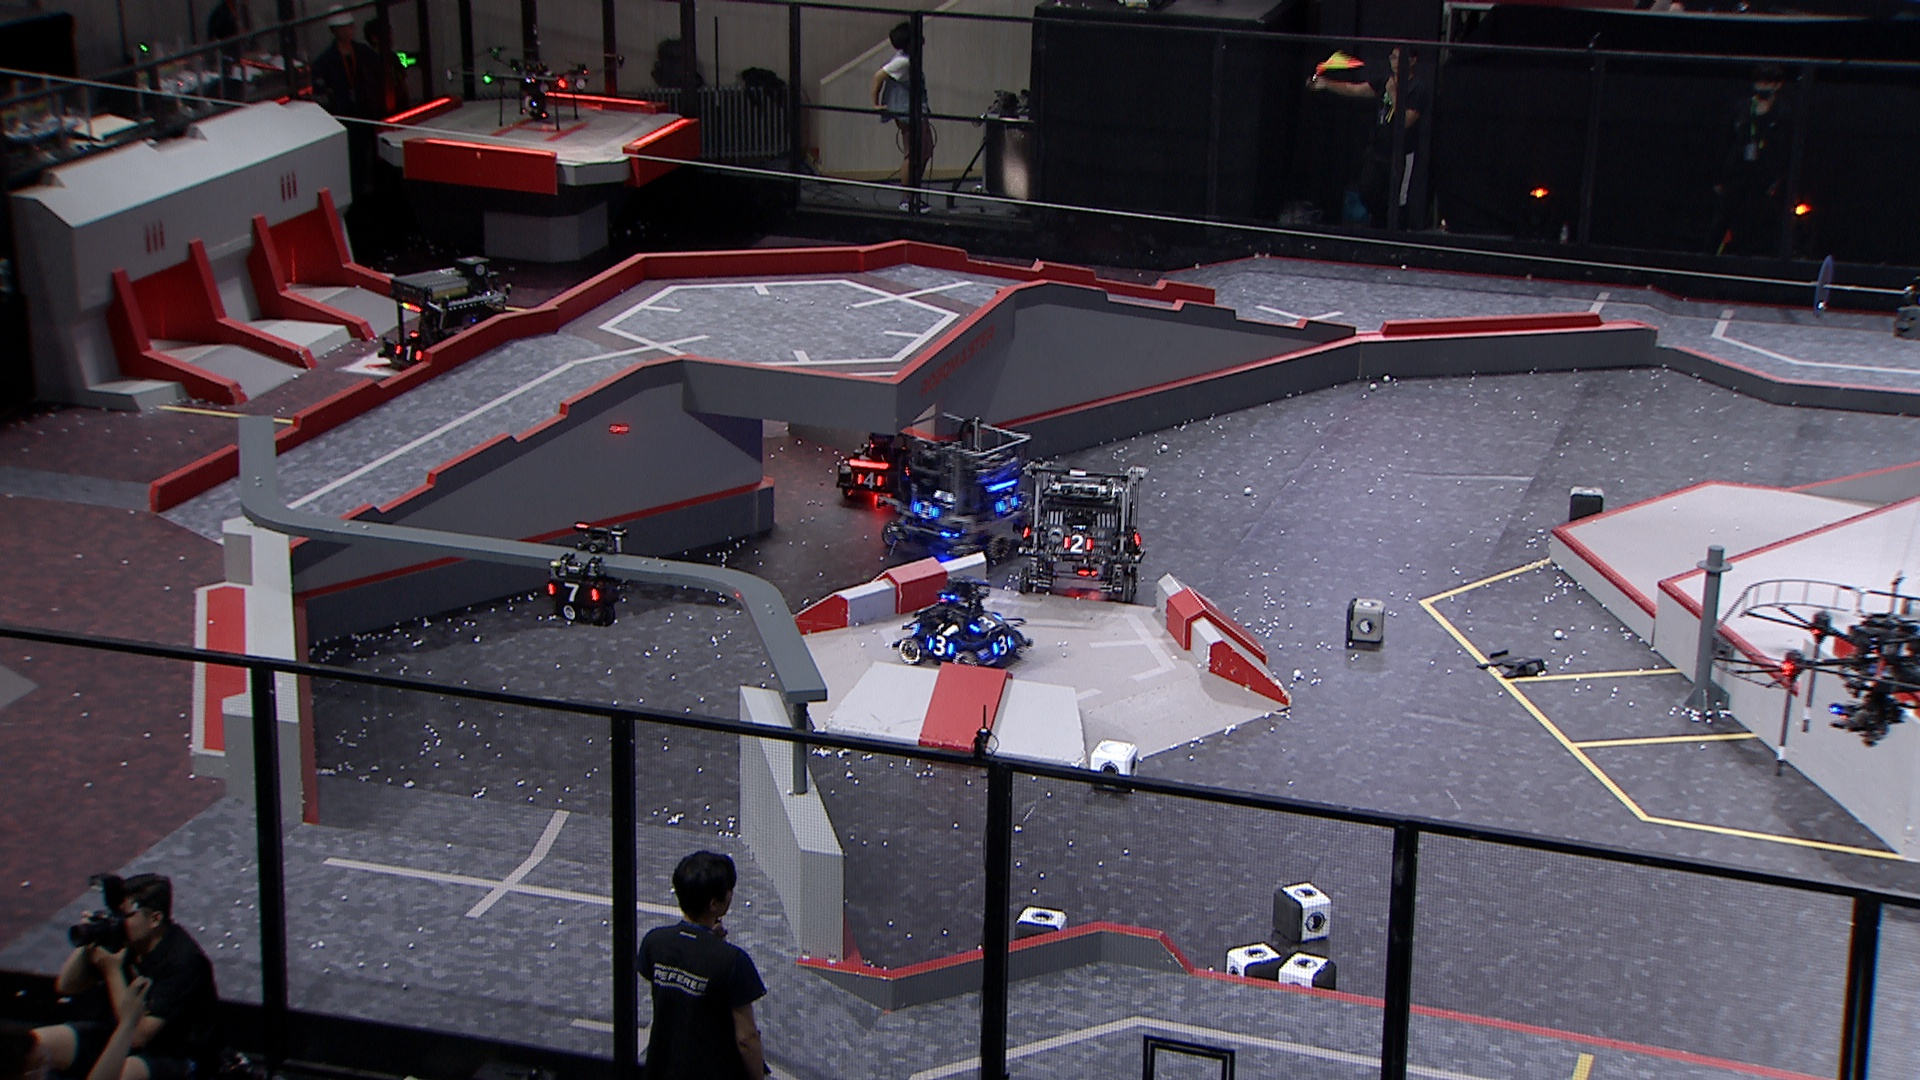armor: (545, 582, 603, 604), (1063, 531, 1096, 556), (967, 612, 1004, 632), (910, 498, 940, 522), (392, 342, 425, 363), (924, 636, 956, 657), (993, 495, 1021, 518), (855, 469, 884, 491), (992, 633, 1015, 655)
car: (878, 411, 1035, 564), (1015, 462, 1147, 604), (377, 258, 512, 382), (891, 575, 1030, 675), (832, 425, 928, 506)
watcher: (542, 522, 626, 632)
